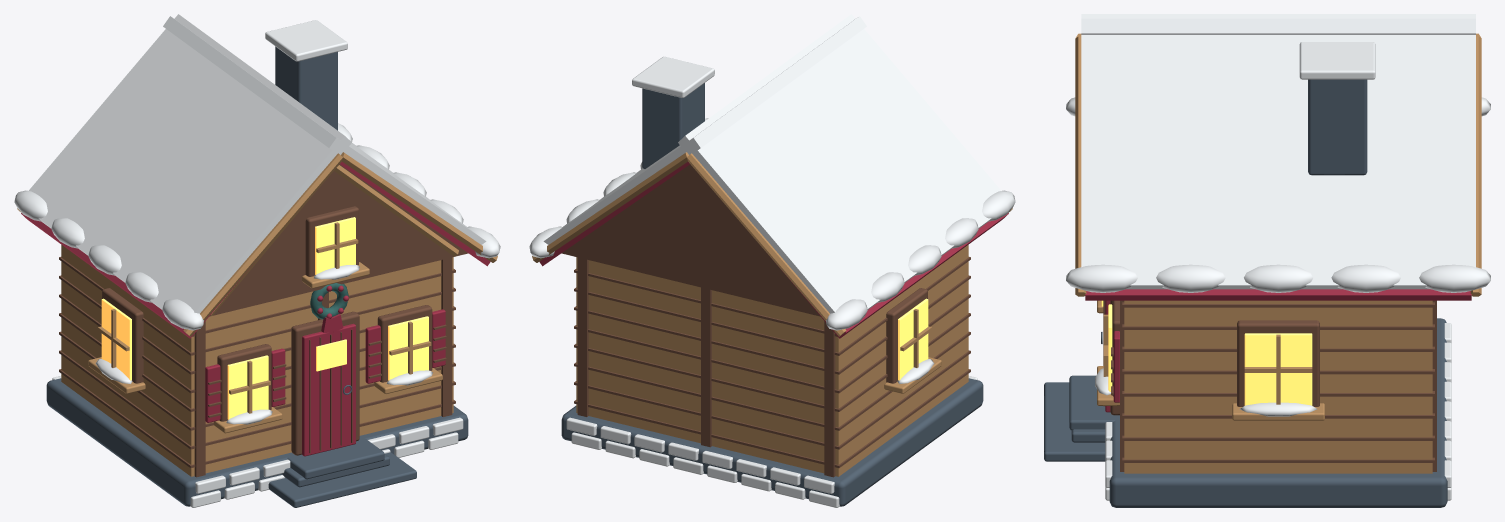
File: chalet.glb
3 renders of one model, left to right at view 1: azimuth 30°, elevation 25°; view 2: azimuth 150°, elevation 25°; view 3: azimuth 270°, elevation 25°, orthographic. The views are drawn at different scales.
Parts seen in each view (by area): view 1: chalet-evergreen-snow, chalet-evergreen-oak, chalet-evergreen-wood, chalet-evergreen-iron, chalet-evergreen-berry, chalet-evergreen-amber, chalet-evergreen-pine; view 2: chalet-evergreen-snow, chalet-evergreen-oak, chalet-evergreen-wood, chalet-evergreen-iron, chalet-evergreen-berry, chalet-evergreen-amber; view 3: chalet-evergreen-snow, chalet-evergreen-oak, chalet-evergreen-iron, chalet-evergreen-wood, chalet-evergreen-berry, chalet-evergreen-amber.
Boxes of the visible parts, x1,y1,x2,y2 form: chalet-evergreen-snow: (14,14,500,507); chalet-evergreen-oak: (17,152,497,476); chalet-evergreen-wood: (59,164,468,477); chalet-evergreen-iron: (46,46,468,507); chalet-evergreen-berry: (21,162,490,456); chalet-evergreen-amber: (101,217,428,419); chalet-evergreen-pine: (310,283,348,319); chalet-evergreen-snow: (529,14,1015,507); chalet-evergreen-oak: (532,152,1012,476); chalet-evergreen-wood: (561,164,970,477); chalet-evergreen-iron: (561,83,983,506); chalet-evergreen-berry: (539,162,1008,338); chalet-evergreen-amber: (898,298,928,380); chalet-evergreen-snow: (1066,14,1490,500); chalet-evergreen-oak: (1075,33,1481,473); chalet-evergreen-iron: (1044,79,1447,507); chalet-evergreen-wood: (1103,300,1436,471); chalet-evergreen-berry: (1085,289,1471,412); chalet-evergreen-amber: (1101,300,1312,405).
Size of the model in its own units: 5.26 by 5.42 by 5.29.
